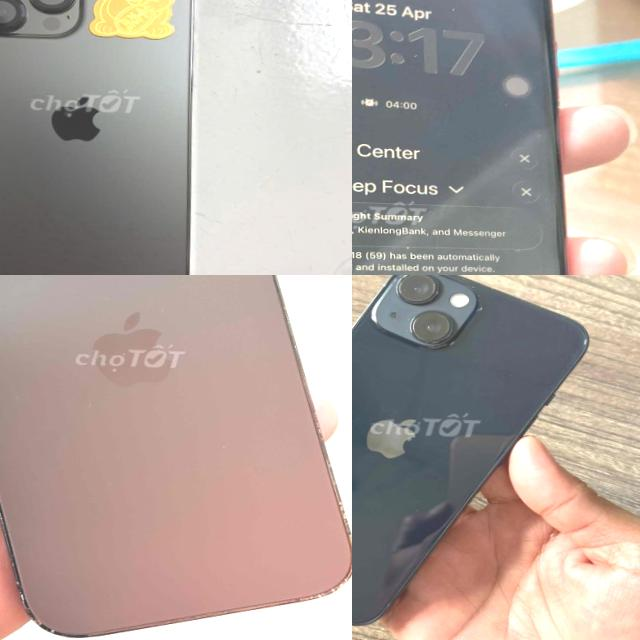gen_12_13: (352, 275, 594, 640), (0, 0, 205, 275)
gen_14: (0, 275, 352, 640)
gen_7_8: (352, 0, 609, 275)
